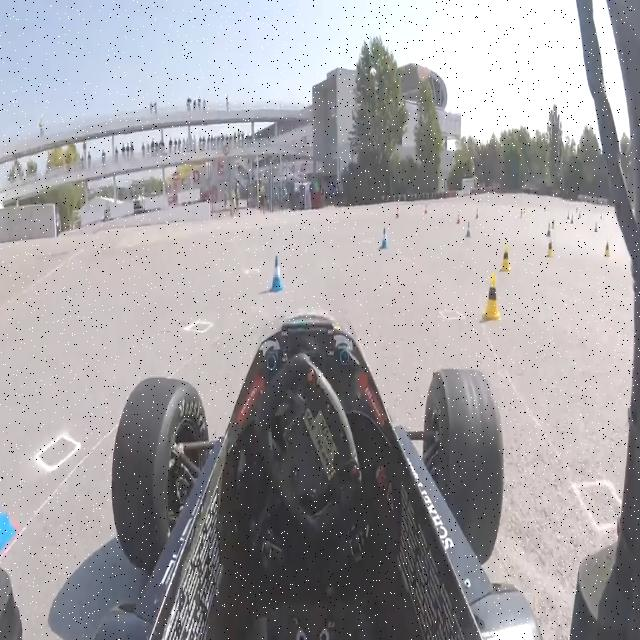blue_cone: (268, 251, 286, 296), (378, 224, 391, 252), (466, 220, 472, 238)
yellow_cone: (481, 274, 504, 324), (498, 238, 512, 274), (546, 235, 554, 259), (603, 237, 611, 259)
